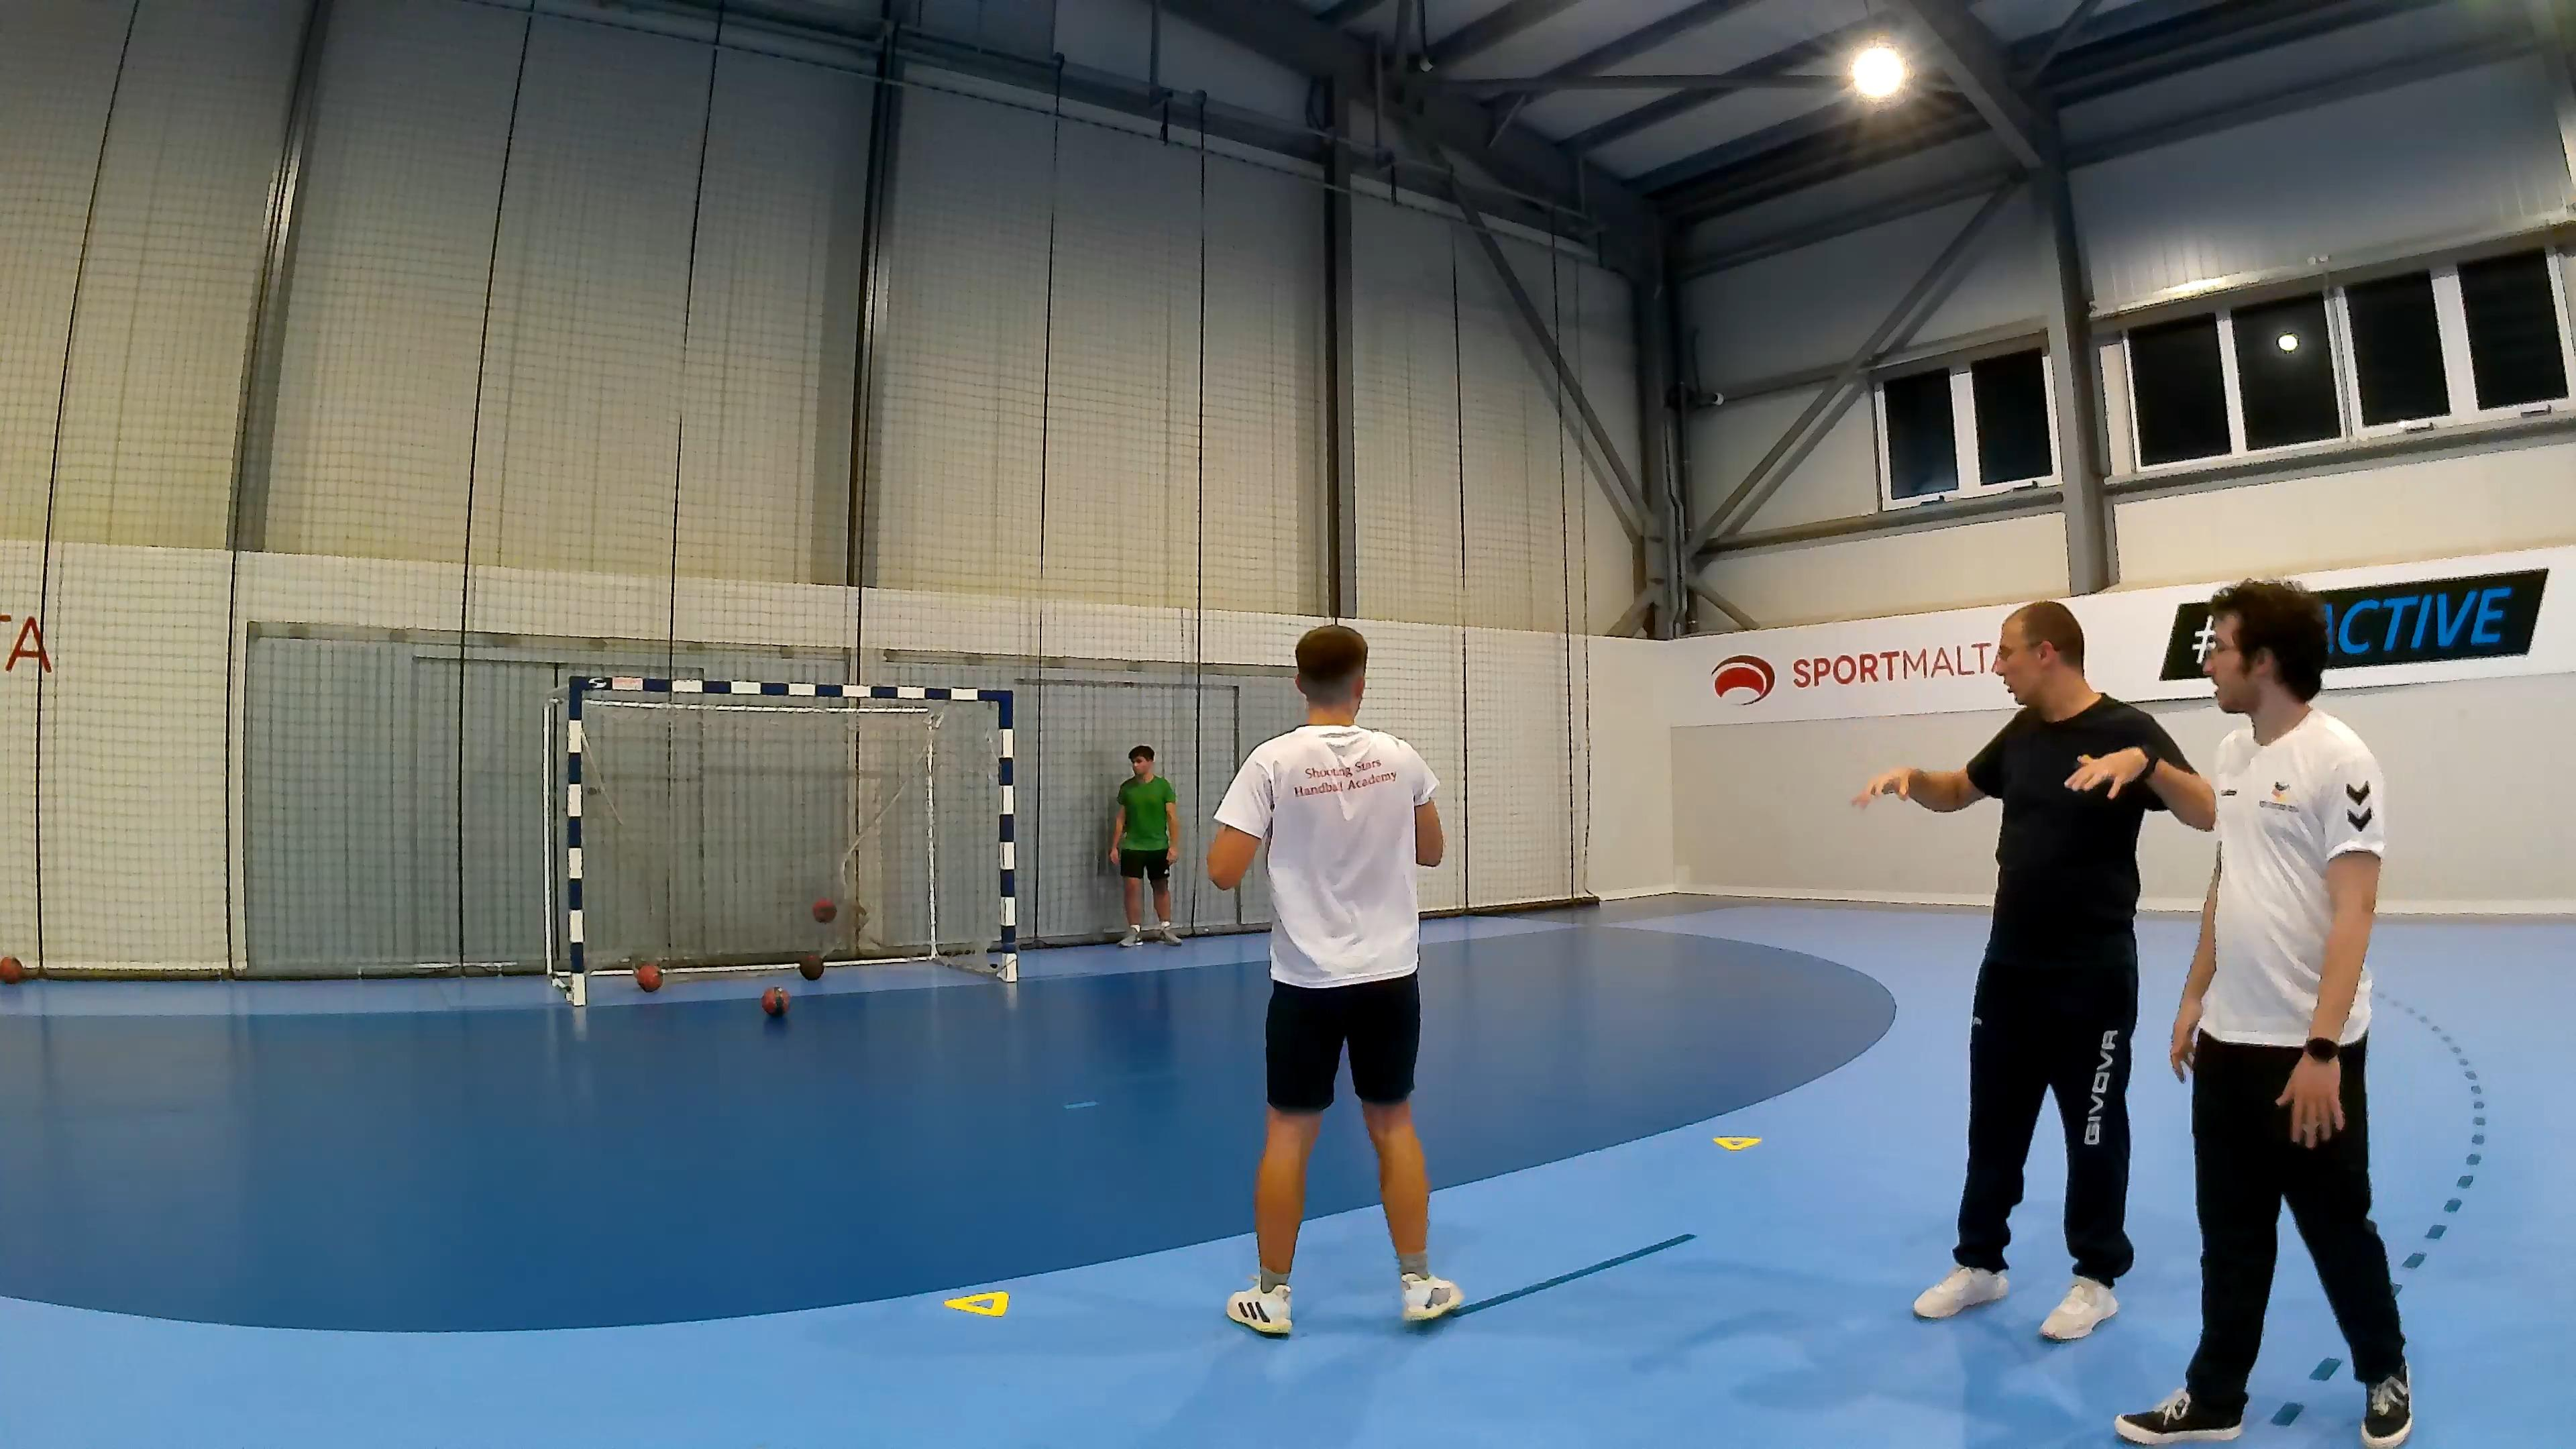handball: (812, 892, 839, 929), (761, 985, 789, 1016), (633, 962, 662, 991), (796, 950, 821, 980)
